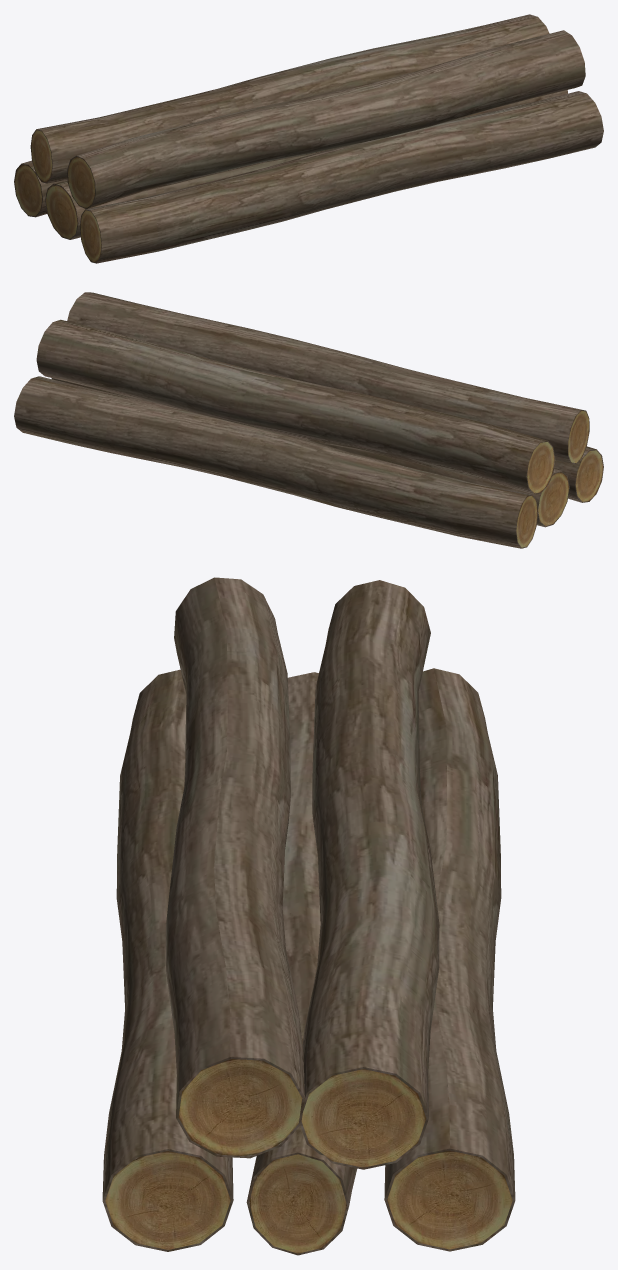
The model's file is logs.glb.
The picture shows the model from 3 angles, top to bottom: view 1: azimuth 30°, elevation 25°; view 2: azimuth 150°, elevation 25°; view 3: azimuth 270°, elevation 25°; orthographic projection. The views are drawn at different scales.
Parts seen in each view (by area): view 1: Cylinder.008; view 2: Cylinder.008; view 3: Cylinder.008.
Part boxes in pixels (x1=…): Cylinder.008: x1=14, y1=14, x2=603, y2=263; Cylinder.008: x1=14, y1=292, x2=603, y2=548; Cylinder.008: x1=102, y1=577, x2=515, y2=1255.
Bounding box in the file's own units: 3.11 × 0.5852 × 1.11.
1 material, 1 textured.
